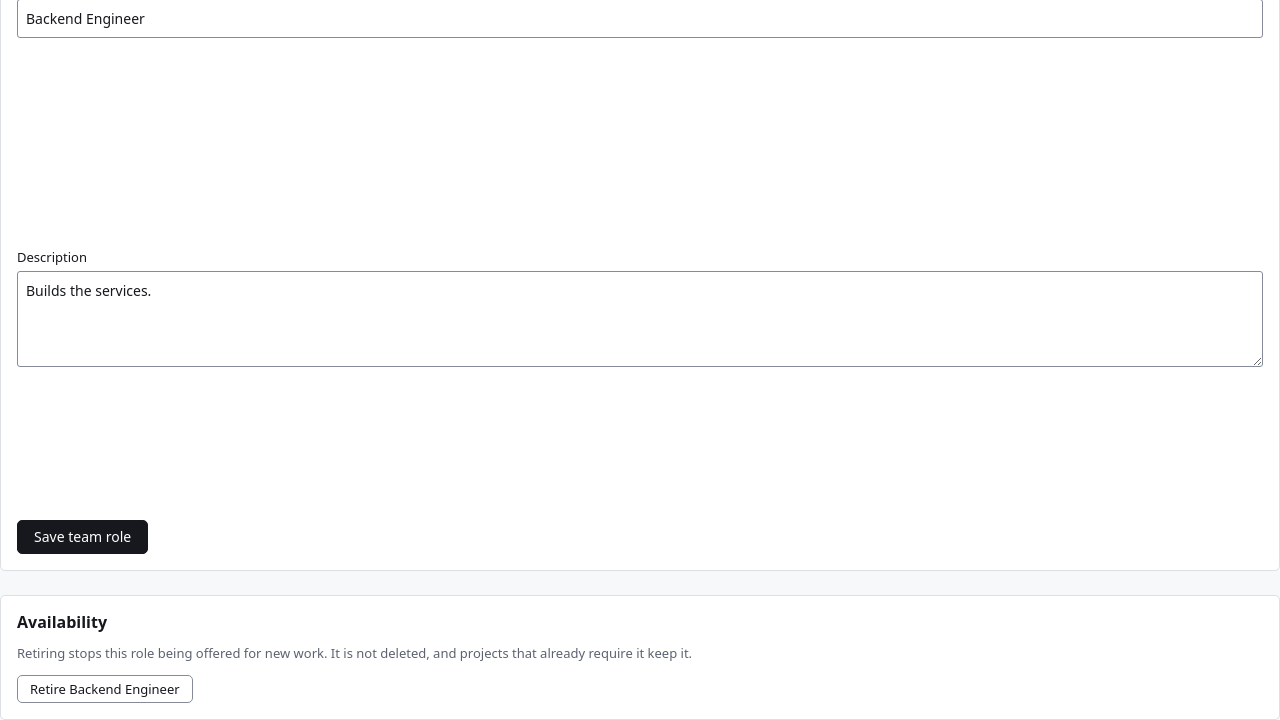
Test case: the detail › explains what retiring does, and what it does not
This screenshot has width=1280, height=720.
(page scrolled)
Click the button "Retire Backend Engineer" at x=105, y=689, box [17,675,193,703]
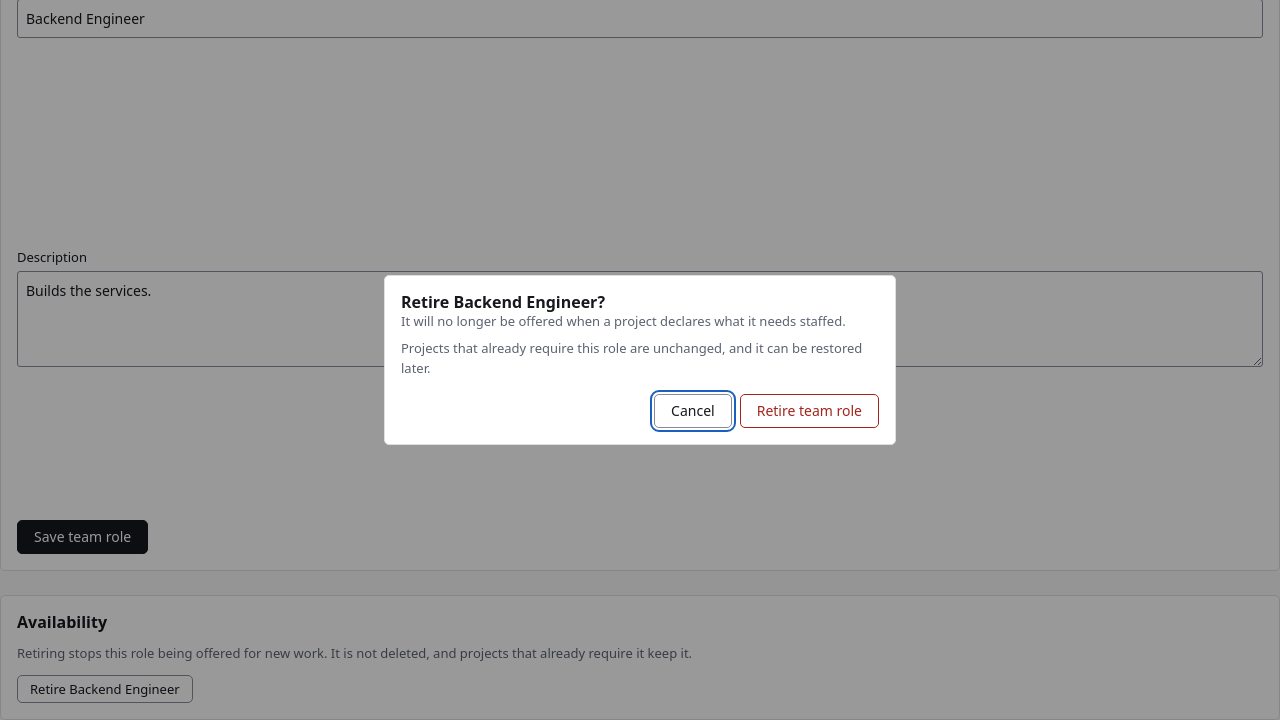
expect the heading "Retire Backend Engineer?" is shown: met, box [401,291,605,313]
expect the text "no longer be offered" is shown: met, box [401,312,846,330]
expect the text "already require this role are unchanged" is shown: met, box [401,339,862,377]
